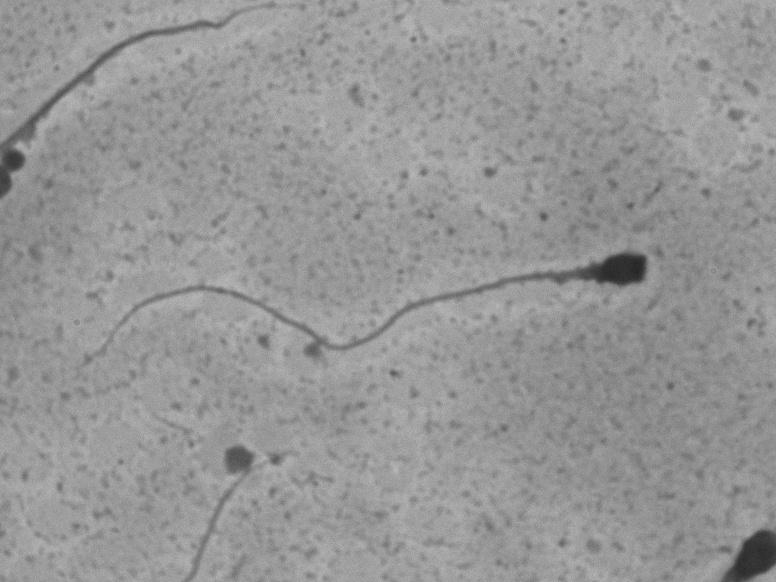Abnormal: (92, 202, 682, 385)
